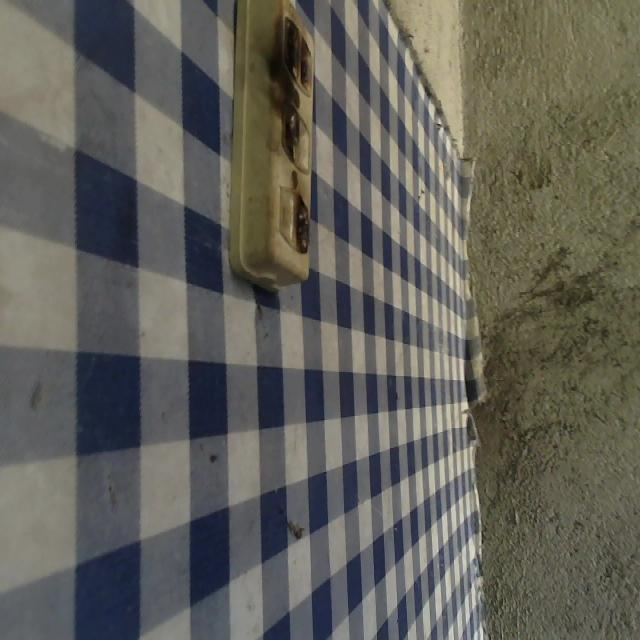-: (280, 11, 315, 93), (276, 104, 299, 168), (295, 187, 314, 257)
